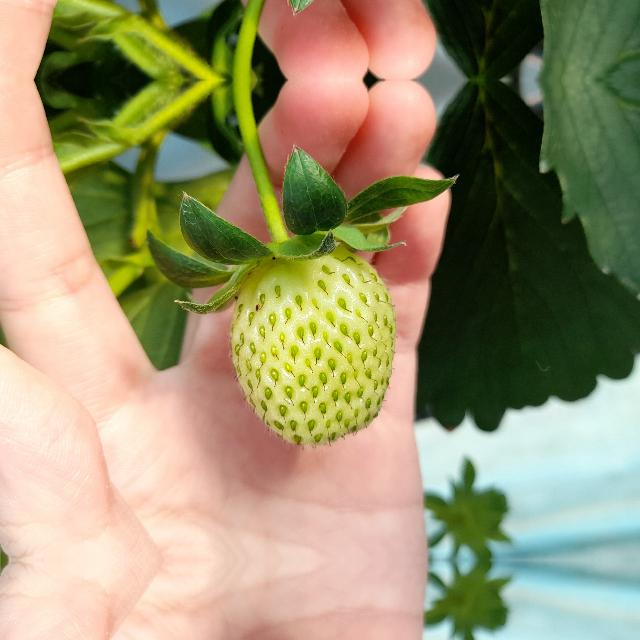Health_25: (228, 247, 396, 446)
